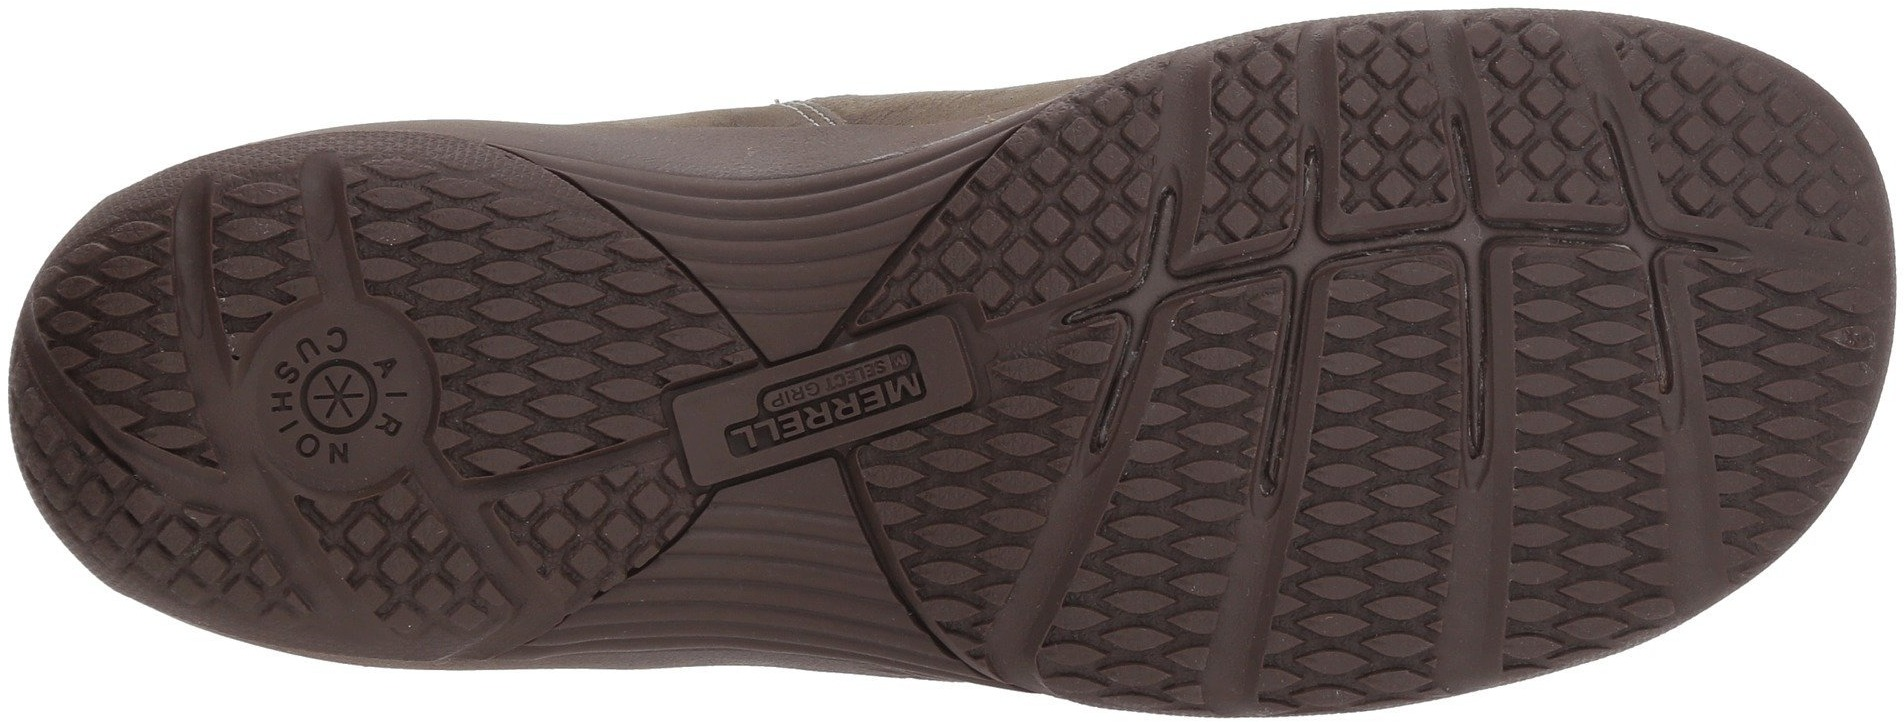circle: (228, 280, 454, 504), (295, 351, 384, 442)
line: (1207, 331, 1566, 663), (696, 507, 865, 660), (735, 237, 841, 330)
quad: (1207, 331, 1566, 663), (452, 220, 652, 408), (1220, 41, 1429, 199), (1294, 434, 1460, 569), (1674, 62, 1814, 201), (1001, 133, 1147, 266)
ribbon: (1416, 184, 1542, 308), (1610, 339, 1734, 456), (1616, 188, 1735, 307), (1251, 194, 1367, 307), (1093, 240, 1200, 342)
star: (228, 280, 454, 504)
text: (228, 280, 454, 504)
